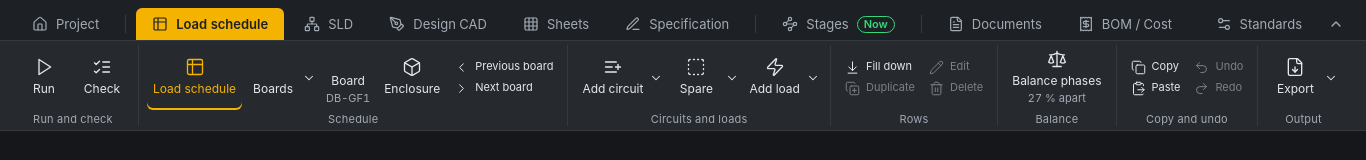
it: the Load schedule tab › balances the phases and shows the imbalance; greyed with fewer than two circuits
Later steps or results of the test are not shown.
Click the button "Balance phases 27 % apart" at (1057, 78), box x1=1006 y1=45 x2=1108 y2=110
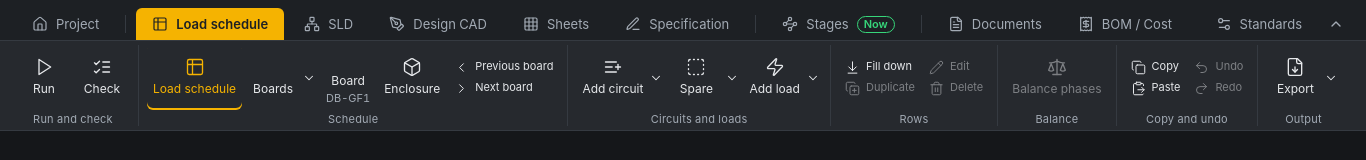
Expected: the button "Balance phases" is disabled, x1=1006 y1=45 x2=1108 y2=110
Expected: the text "27 % apart" is gone
